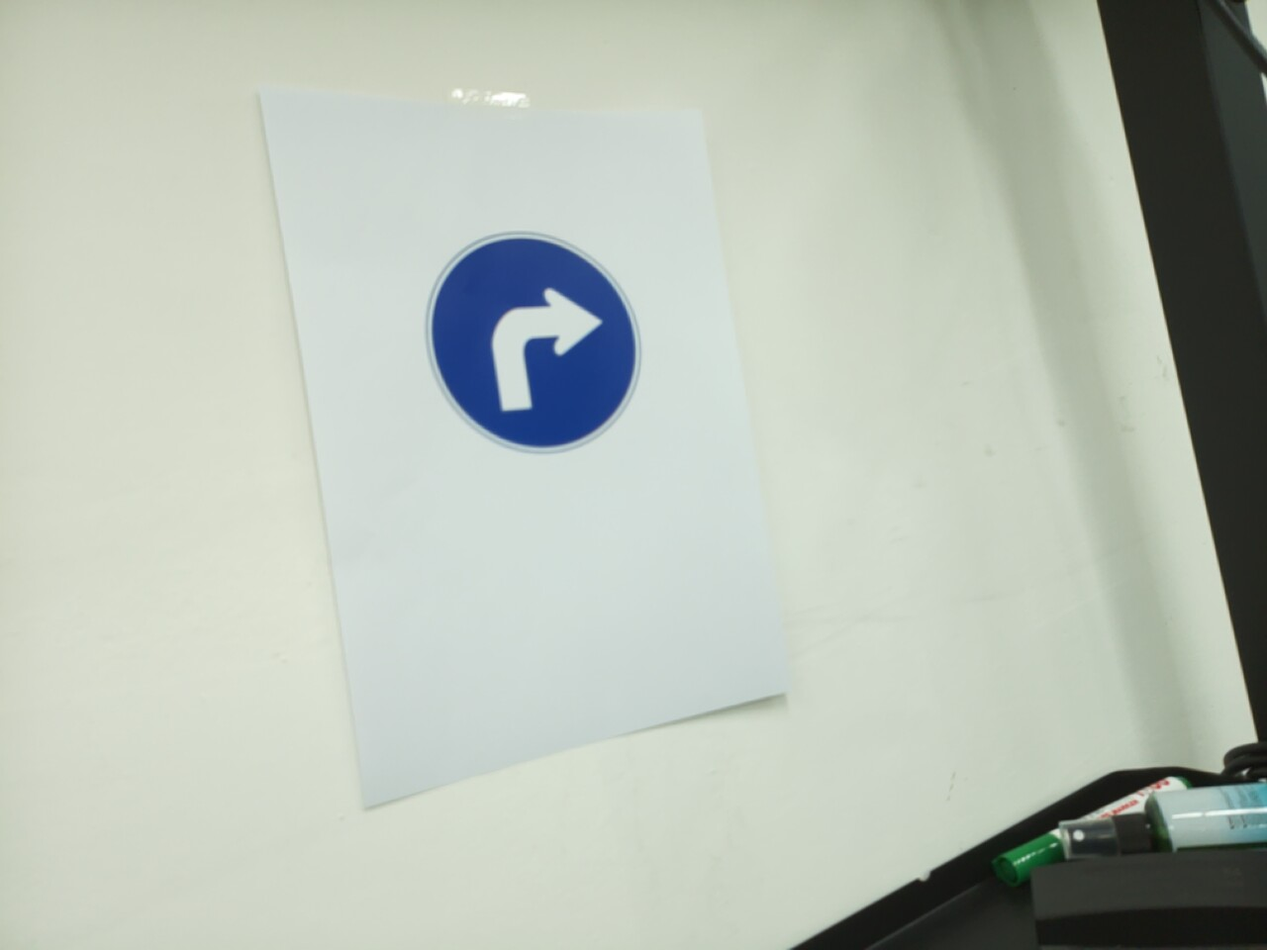right_turn: (424, 230, 643, 455)
